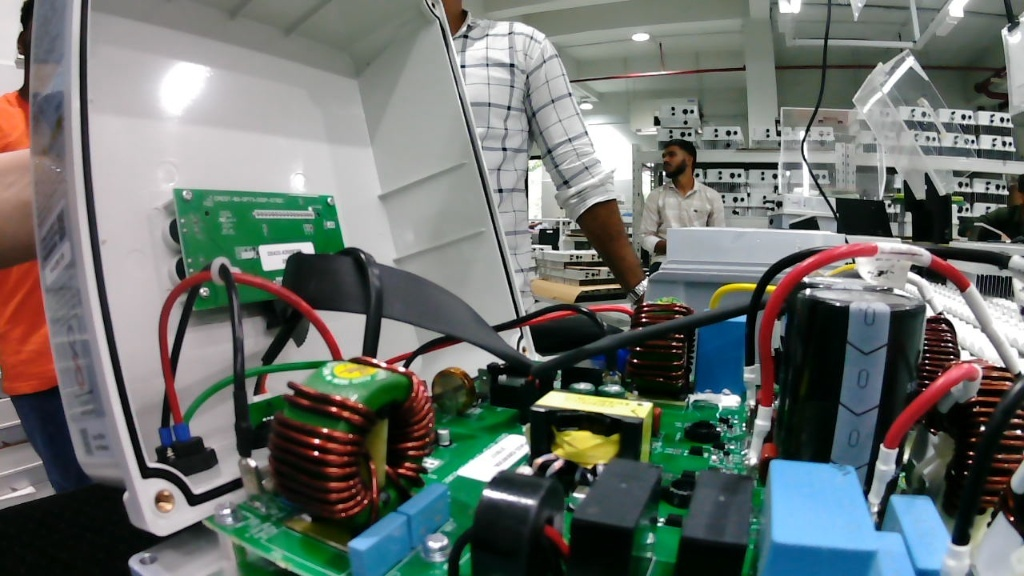wire_red: (140, 364, 224, 475)
